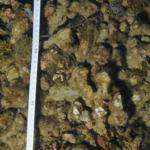dead: (47, 7, 145, 146)
